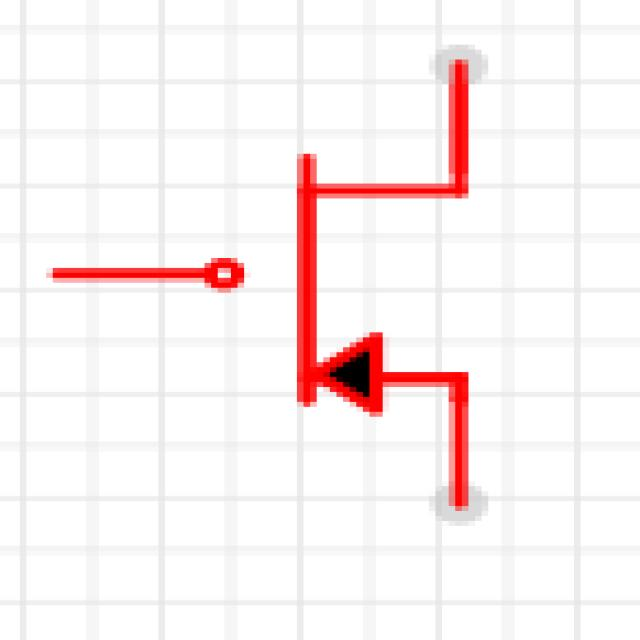pmos: (49, 70, 531, 554)
